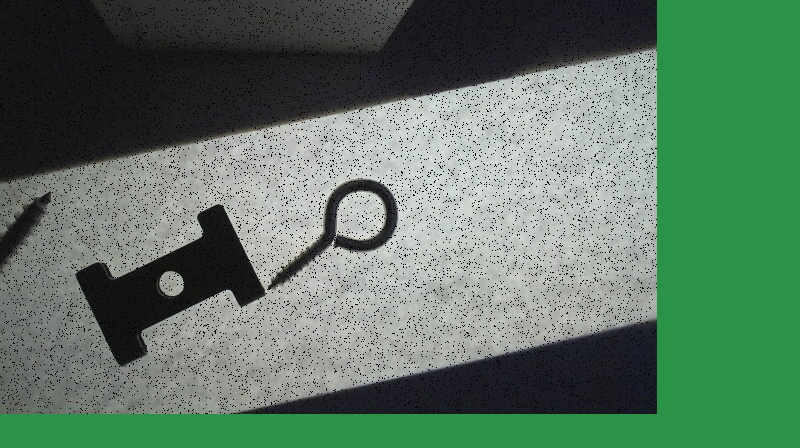O001: (266, 177, 397, 290)
O002: (73, 203, 264, 365)
S001: (0, 189, 54, 344)
